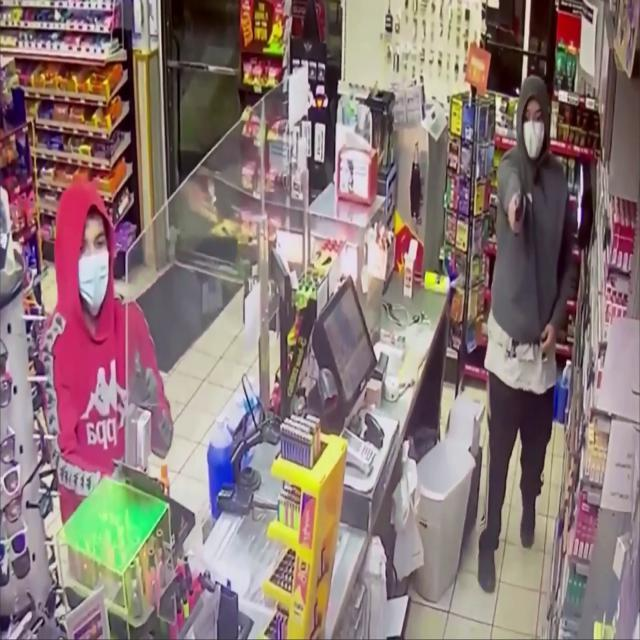Gun: (130, 348, 148, 410), (510, 190, 524, 238)
